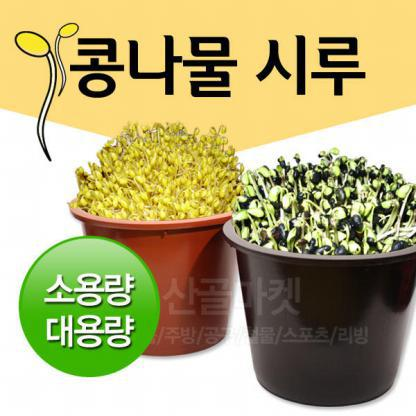bean sprouts: (101, 126, 225, 210)
